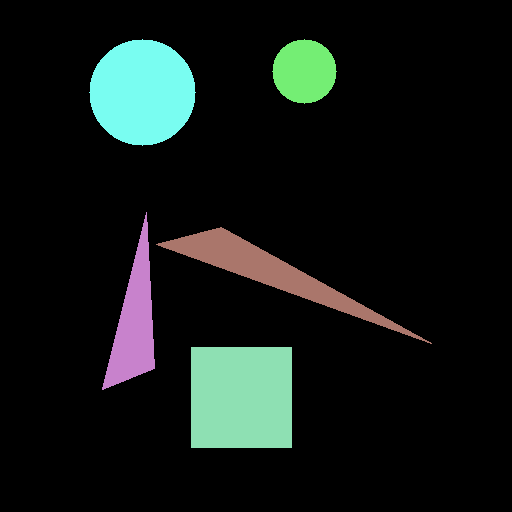circle: (89, 39, 195, 145), (272, 39, 336, 103)
square: (191, 347, 291, 447)
triangle: (156, 227, 431, 343), (102, 212, 154, 389)
